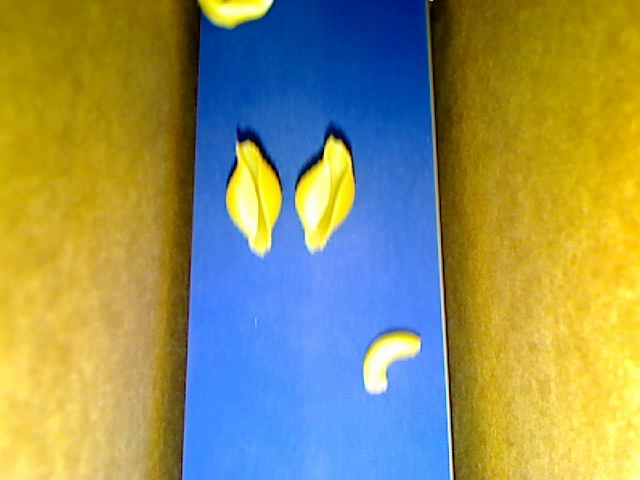elbow: (362, 330, 421, 397)
shell: (292, 132, 356, 252), (223, 140, 281, 258)
